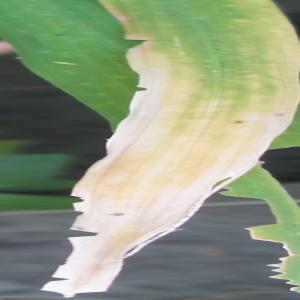2 BacterialBlight: (126, 1, 282, 150)
